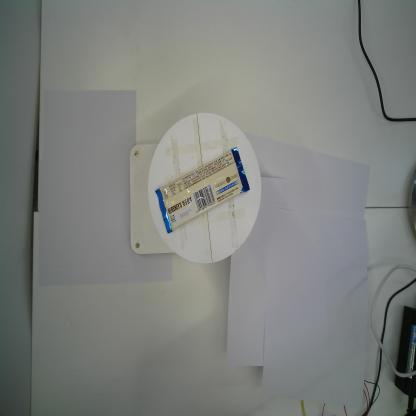Chocolate: (155, 146, 251, 236)
